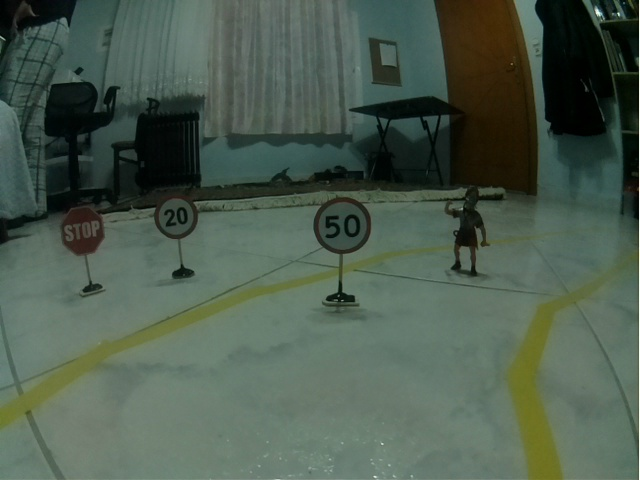Person: (444, 186, 491, 277)
Speed Limit 20: (154, 195, 198, 240)
Speed Limit 50: (313, 196, 372, 255)
Stop: (60, 207, 105, 256)
